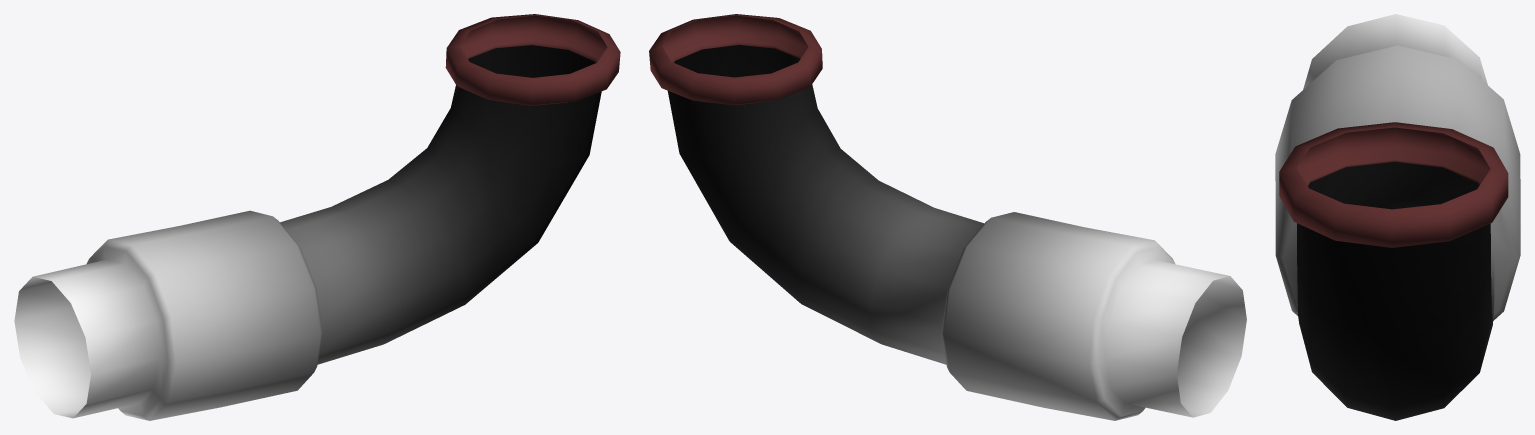
The model's file is Pipe.fbx.
3 views of the same model, side by side, from view 1: azimuth 30°, elevation 25°; view 2: azimuth 150°, elevation 25°; view 3: azimuth 270°, elevation 25° (orthographic). The views are drawn at different scales.
Parts seen in each view (by area): view 1: Pipe; view 2: Pipe; view 3: Pipe.
Part boxes in pixels (x1=…): Pipe: x1=14, y1=14, x2=620, y2=420; Pipe: x1=649, y1=14, x2=1246, y2=420; Pipe: x1=1275, y1=14, x2=1520, y2=420.
Bounding box in the file's own units: 2.27 × 1.08 × 0.6588.
